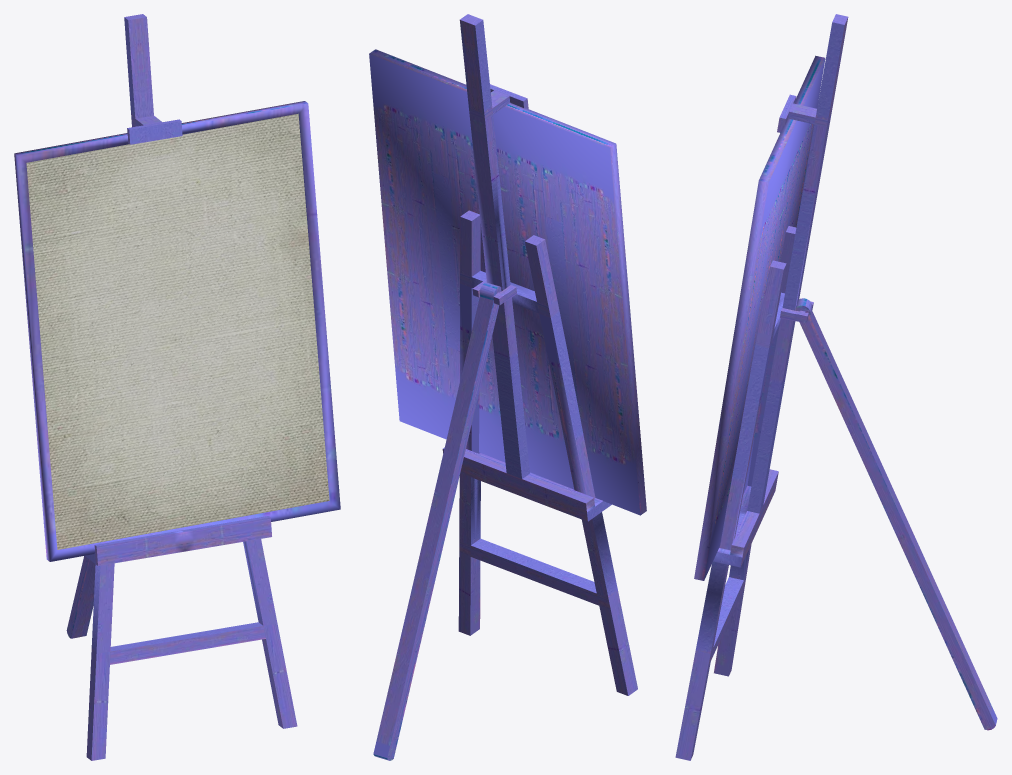
Rendered from Easel.glb.
3 views of the same model, side by side, from view 1: azimuth 30°, elevation 25°; view 2: azimuth 150°, elevation 25°; view 3: azimuth 270°, elevation 25° (orthographic). The views are drawn at different scales.
Parts seen in each view (by area): view 1: Easel; view 2: Easel; view 3: Easel.
Part boxes in pixels (x1=…): Easel: x1=14, y1=14, x2=340, y2=760; Easel: x1=369, y1=14, x2=646, y2=760; Easel: x1=675, y1=14, x2=997, y2=760.
Bounding box in the file's own units: 7.4 × 18 × 7.47.
2 materials, 2 textured.
